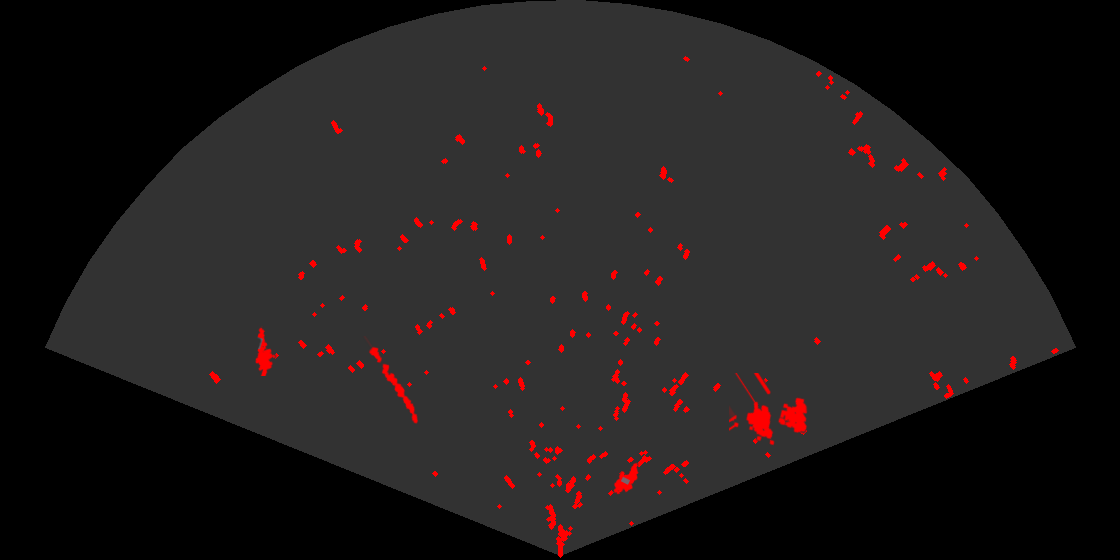AUV: (612, 461, 640, 496)
cage: (729, 373, 809, 447)
chain: (362, 336, 420, 425)
frogman: (254, 326, 277, 376)
